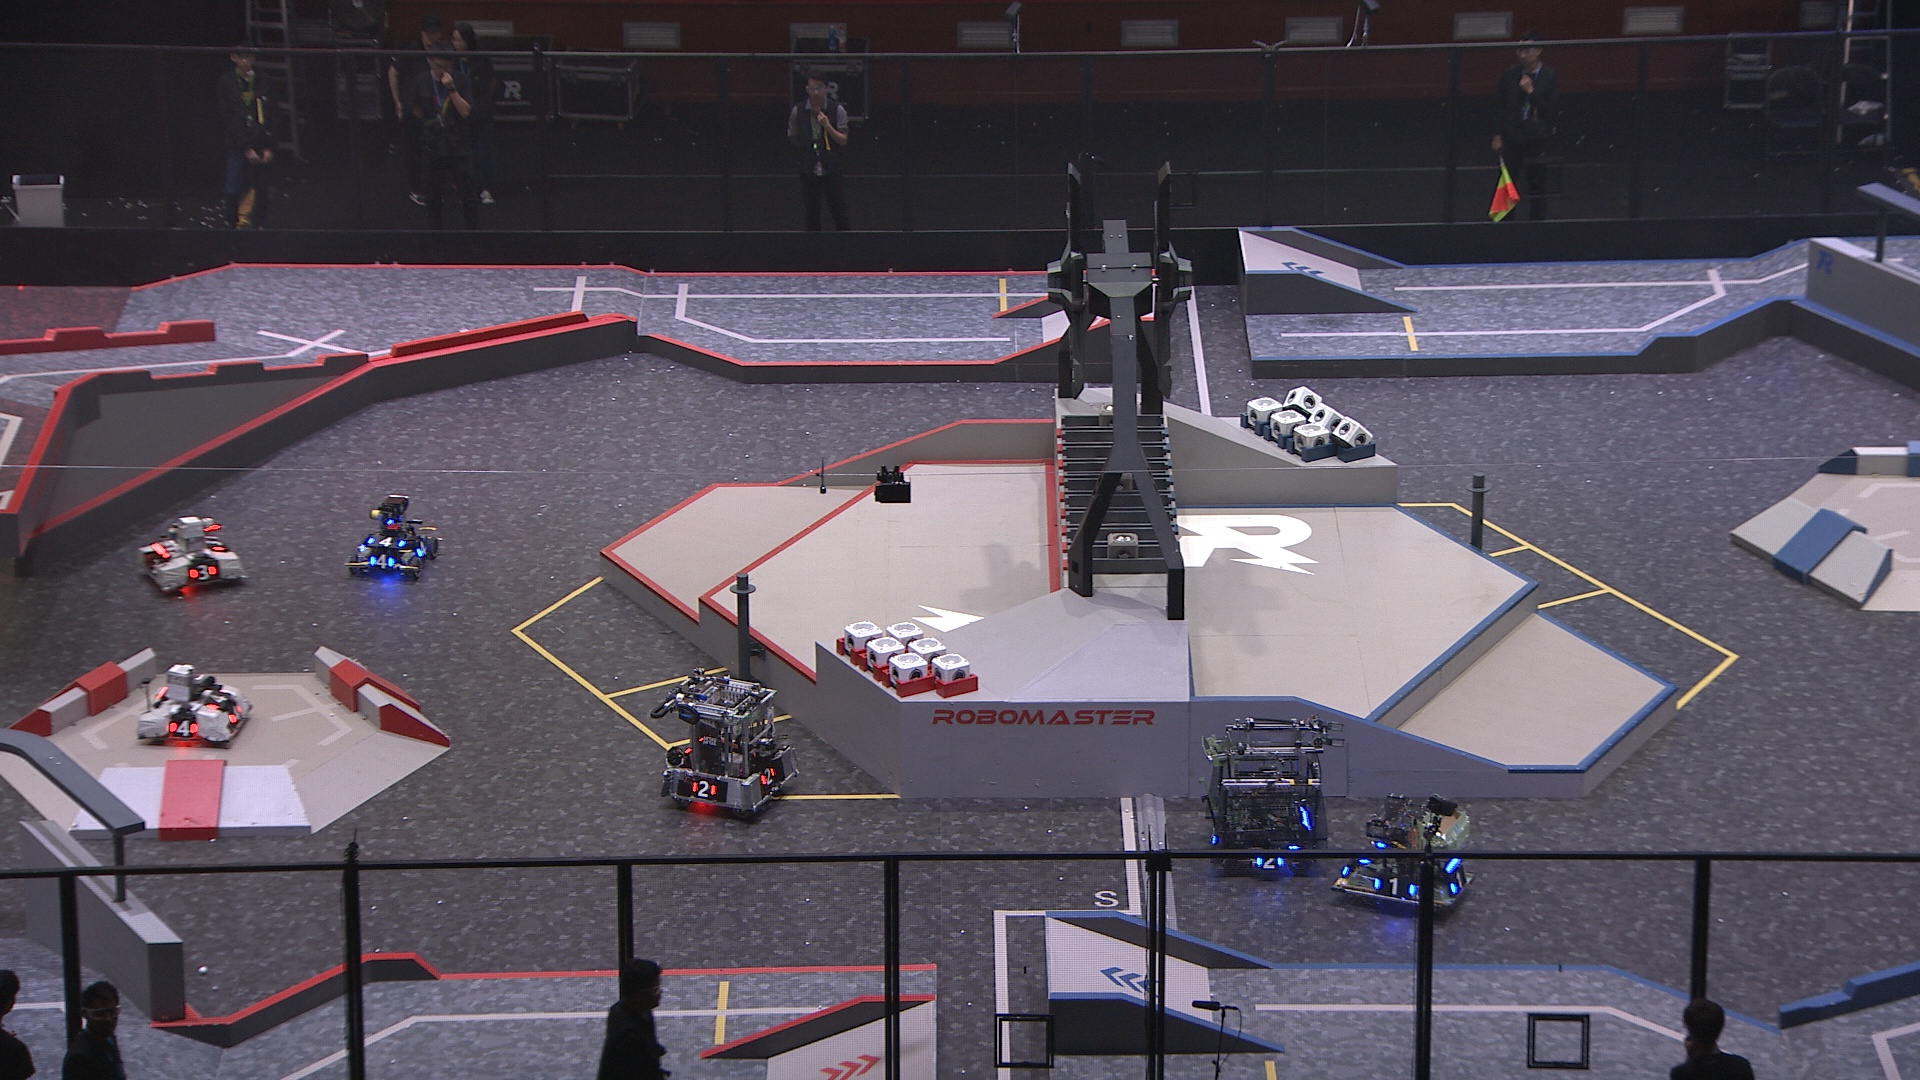armor: (1371, 874, 1422, 899), (686, 775, 719, 800), (363, 531, 410, 549), (189, 560, 220, 584), (167, 716, 199, 738), (204, 684, 231, 711), (1448, 868, 1472, 895), (1255, 851, 1284, 872), (204, 529, 228, 553), (760, 760, 779, 787), (367, 551, 396, 570), (224, 702, 247, 725), (1204, 820, 1224, 845), (146, 551, 166, 575), (410, 538, 430, 560)
car: (1196, 713, 1333, 877), (659, 665, 799, 818), (1335, 783, 1480, 913), (136, 657, 255, 746), (136, 513, 252, 597), (340, 491, 439, 579)
